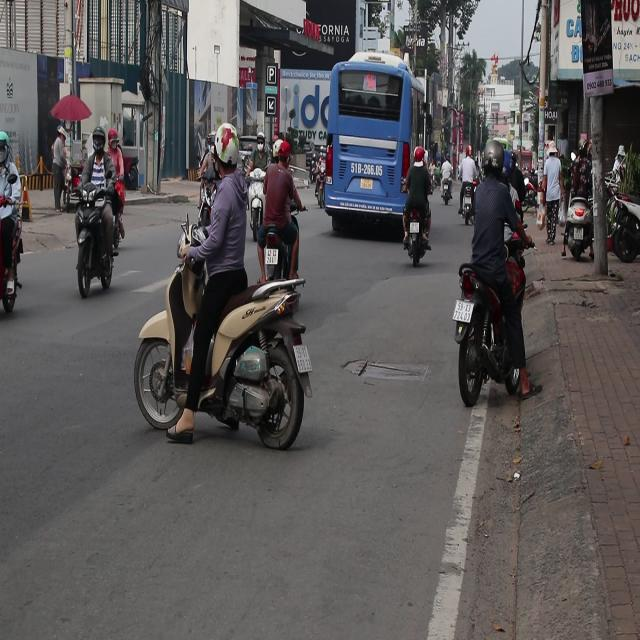bus: (323, 54, 422, 239)
car: (238, 139, 256, 172)
motorbike: (129, 265, 316, 459), (449, 275, 544, 415), (257, 222, 325, 345), (73, 172, 127, 299), (0, 180, 18, 314), (239, 168, 273, 237), (405, 209, 432, 271), (312, 163, 333, 218), (436, 171, 454, 203), (455, 192, 474, 222)
